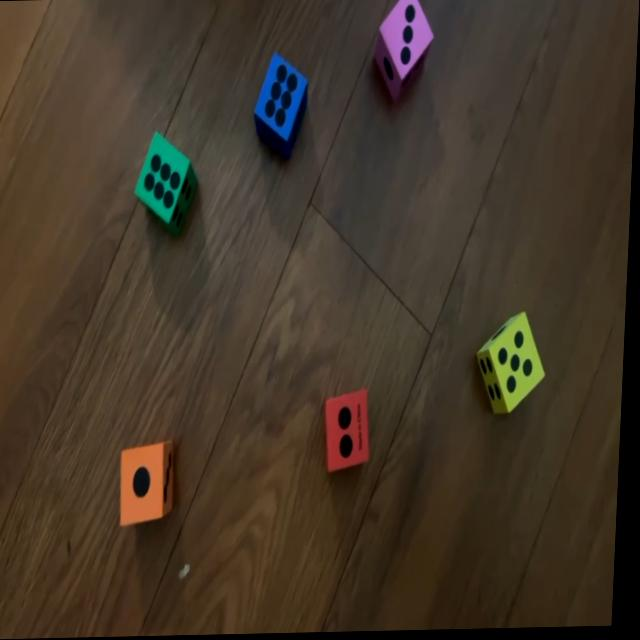blue_block: (252, 51, 312, 163)
red_block: (323, 389, 378, 474)
